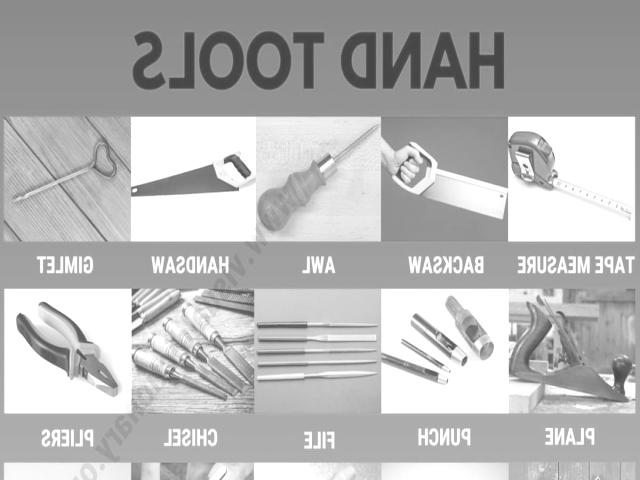Backsaw: (392, 142, 508, 218)
Hand: (381, 138, 422, 184)
Handsaw: (131, 150, 255, 196)
Pliers: (16, 303, 118, 396)
Screwdriver: (258, 125, 378, 230)
Tape measure: (509, 131, 634, 219)
